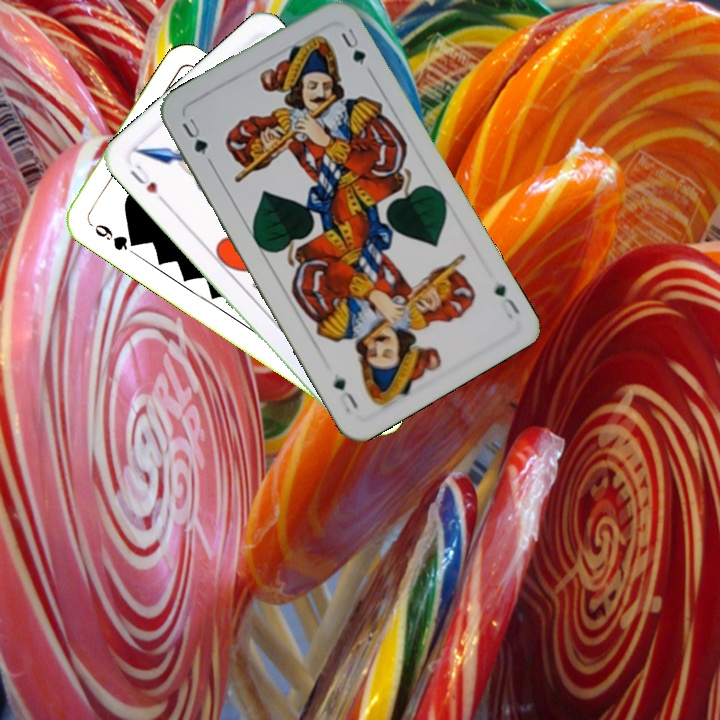G9: (84, 217, 141, 254)
GU: (177, 113, 211, 158), (490, 279, 522, 322)
HU: (126, 160, 168, 206)
